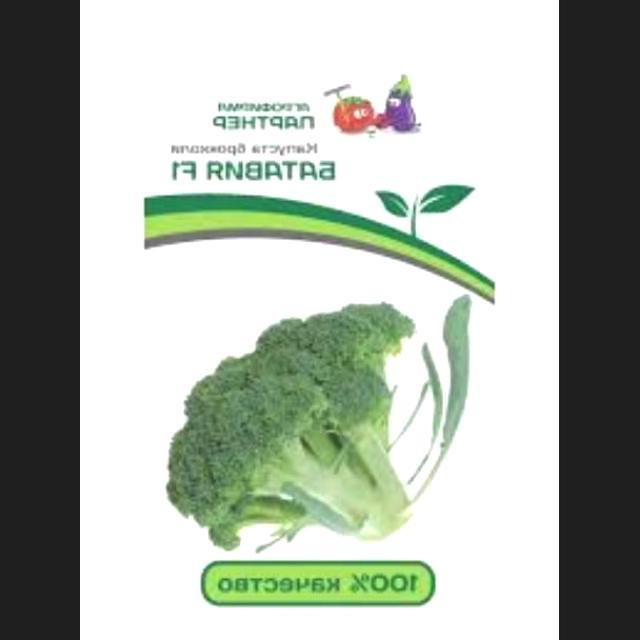Broccoli: (138, 296, 424, 570)
